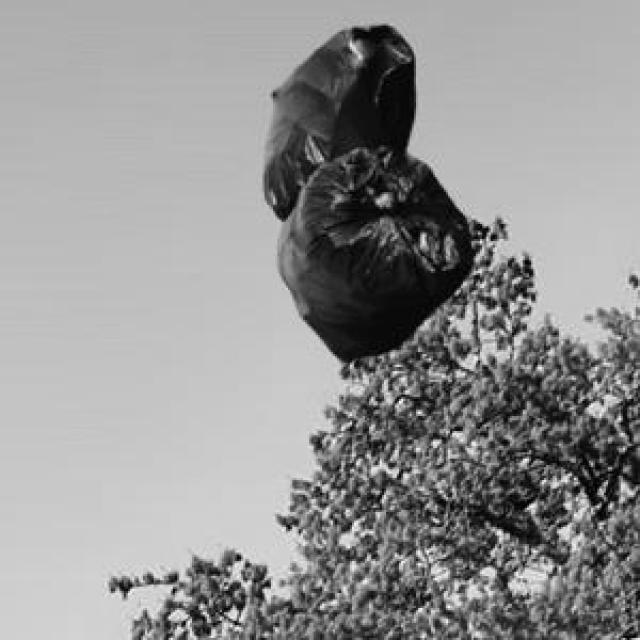miscellaneous trash: (260, 21, 469, 356)
